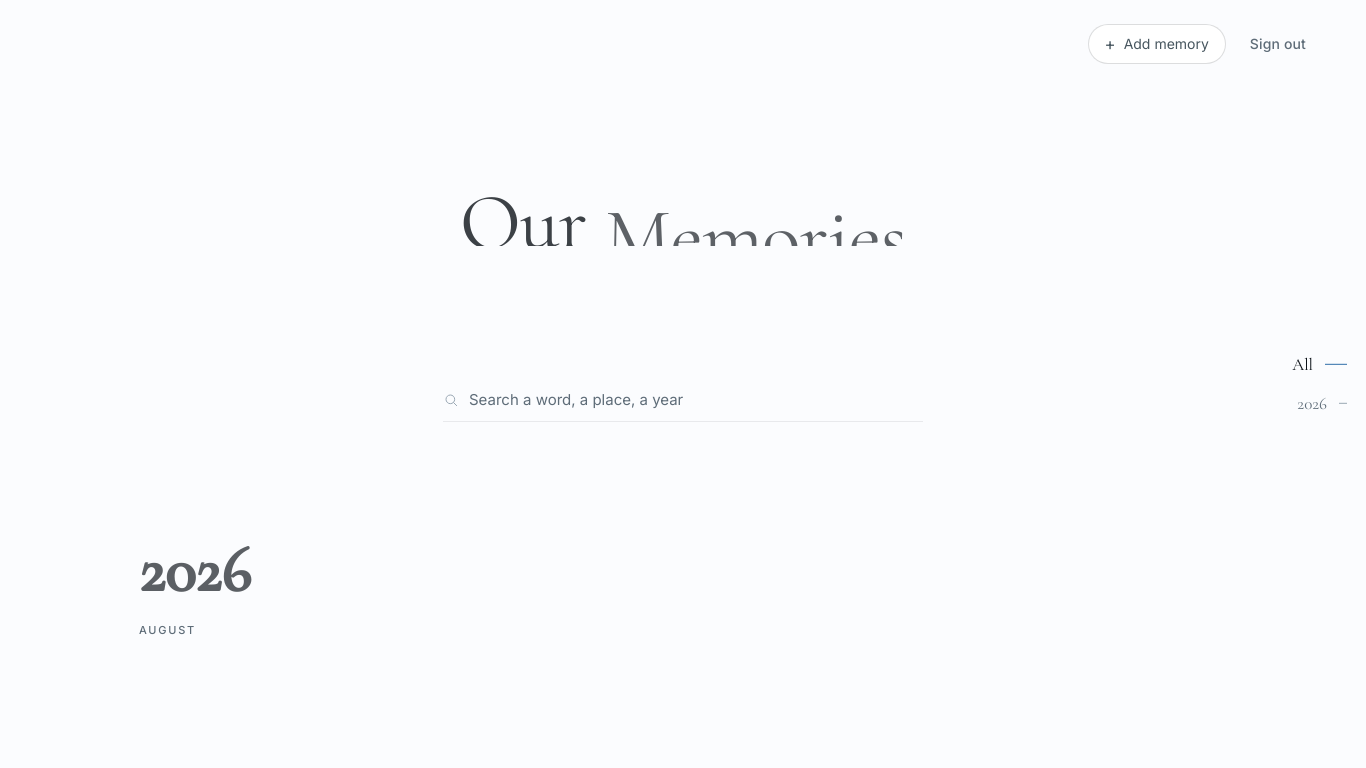
Scenario: adding a memory › will not save without a photograph and a title
Click the button with aria-label "Add a memory" at (1157, 44), box [1088,24,1226,64]
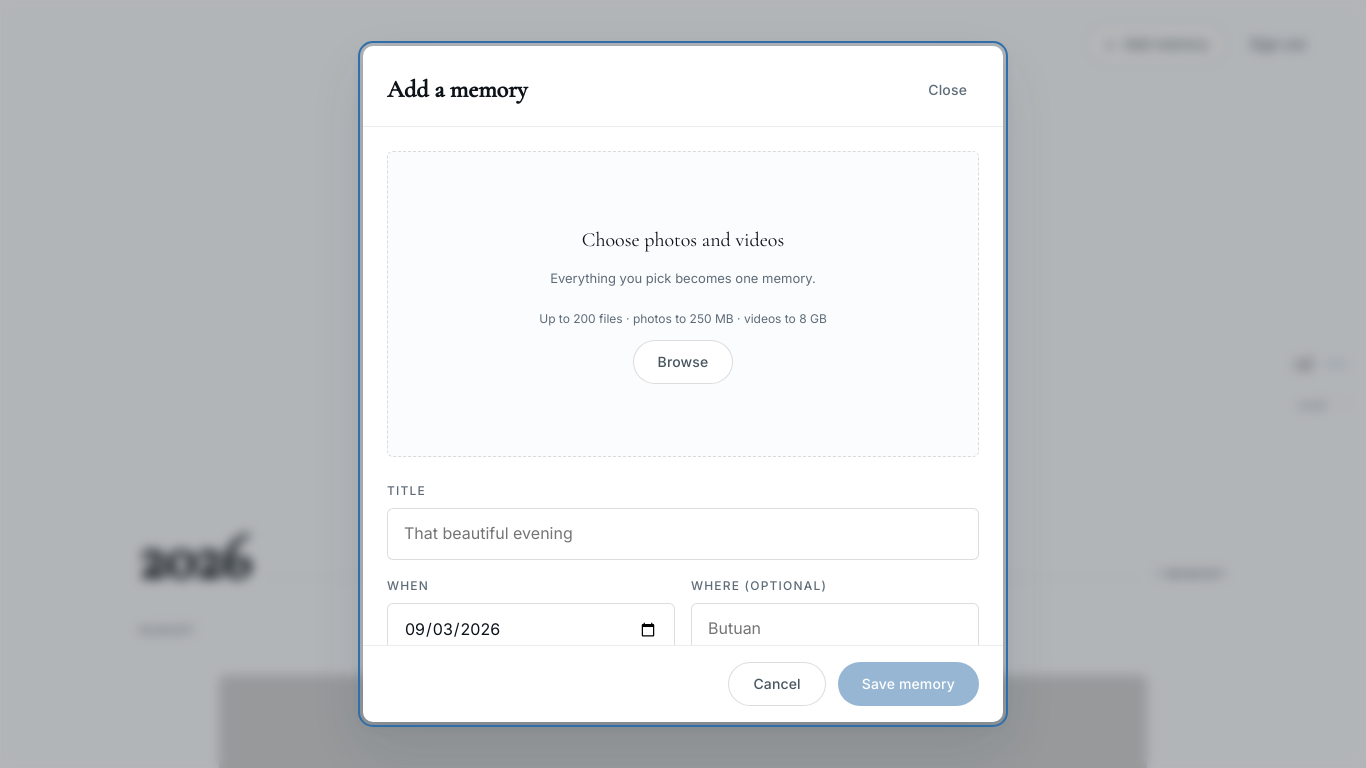
Now the text "Choose photos and videos" is shown, box [582,224,784,256]
Now the button "Save memory" is disabled, box [838,662,979,706]
